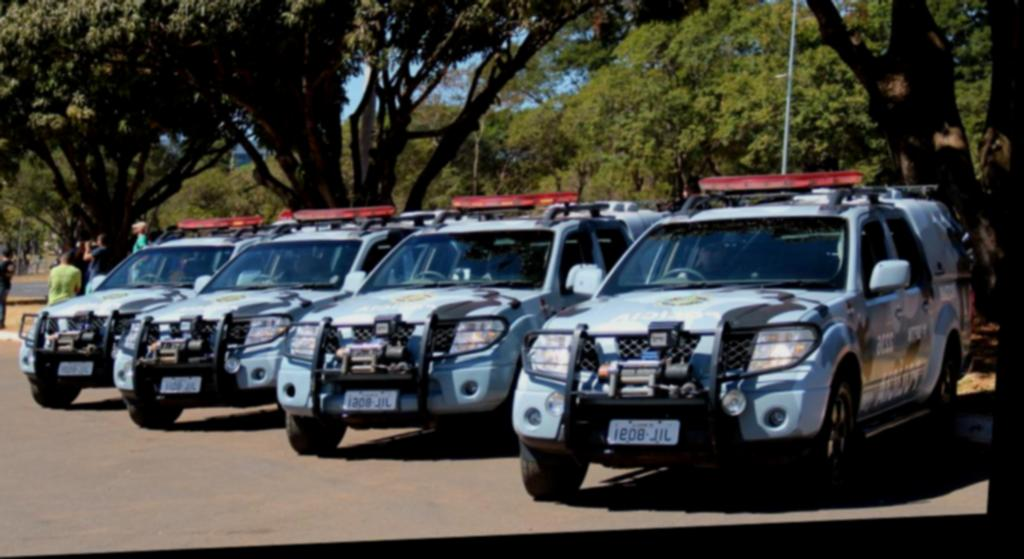License_Plate: (606, 417, 684, 446), (340, 386, 401, 412), (159, 375, 203, 396), (58, 359, 95, 378)
